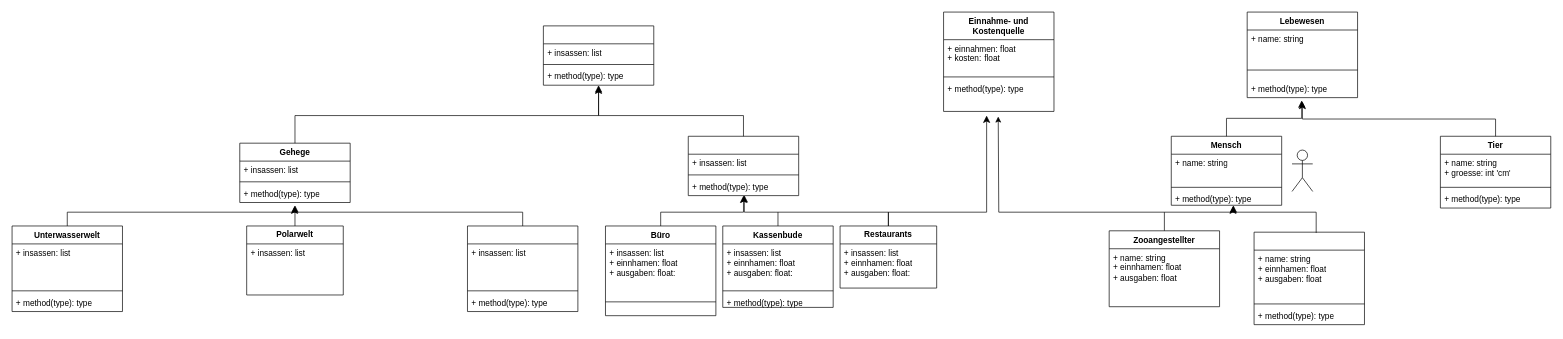
The diagram is 1563 pixels wide and 339 high, and some of its shapes have lost their labels. Each missing label, with the box of its shape:
Actor: (1291, 149, 1313, 191)
Affenhaus: (467, 225, 578, 312)
Anlage: (543, 25, 654, 85)
Besucher: (1253, 231, 1364, 325)
Gebäude: (688, 136, 799, 196)
